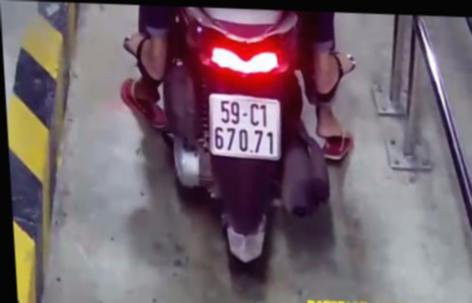License_Plate: (205, 87, 286, 166)
